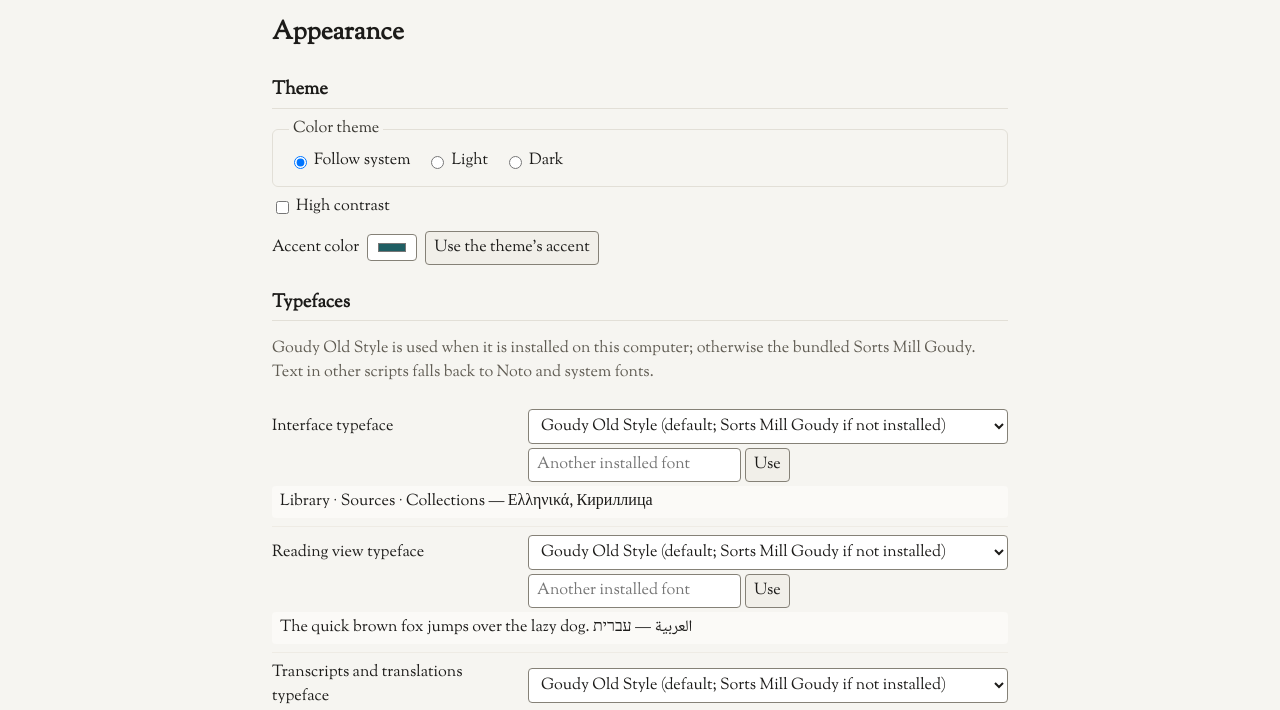
Test: the appearance settings cannot be read (Task 68) › confirmed: one reset, then the change that was refused is saved; the notice goes and focus lands on the heading
This screenshot has width=1280, height=710.
Step 1. Click the radio button labelled "Dark" → (516, 162), box [509,156,522,169]
(page scrolled)
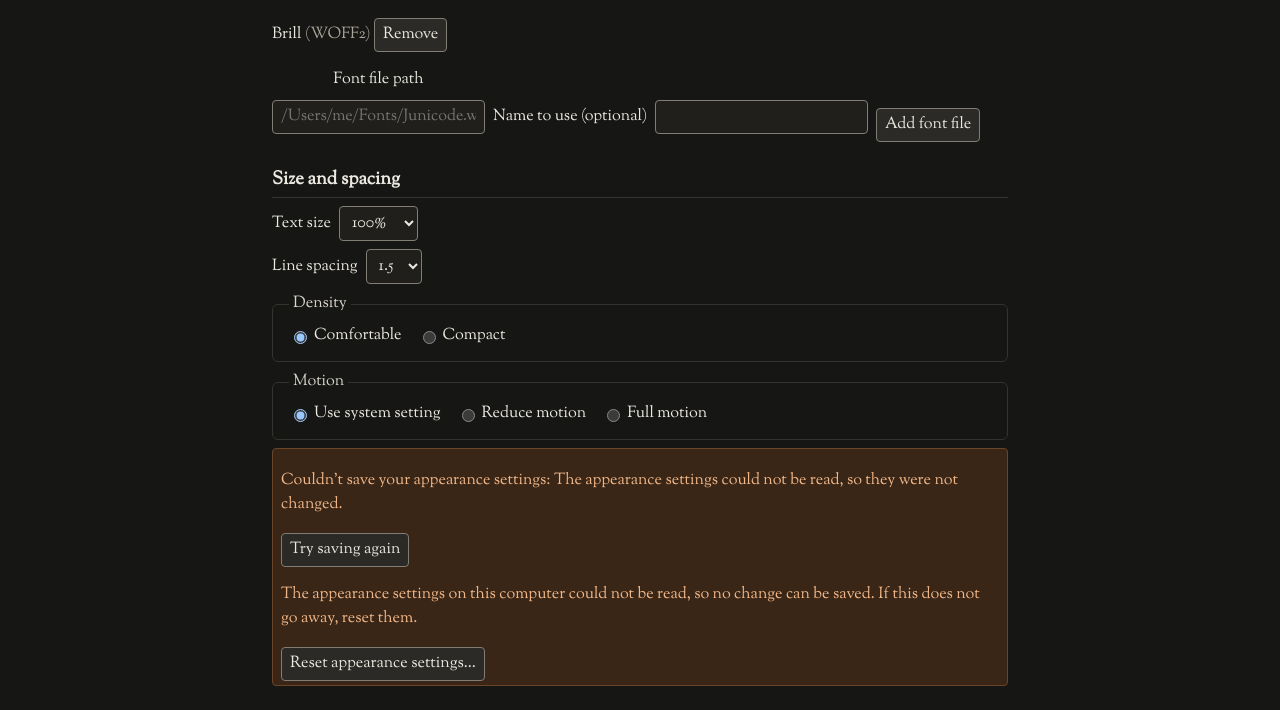
Step 2. Click the button "Reset appearance settings…" → (383, 664), box [281,647,485,681]
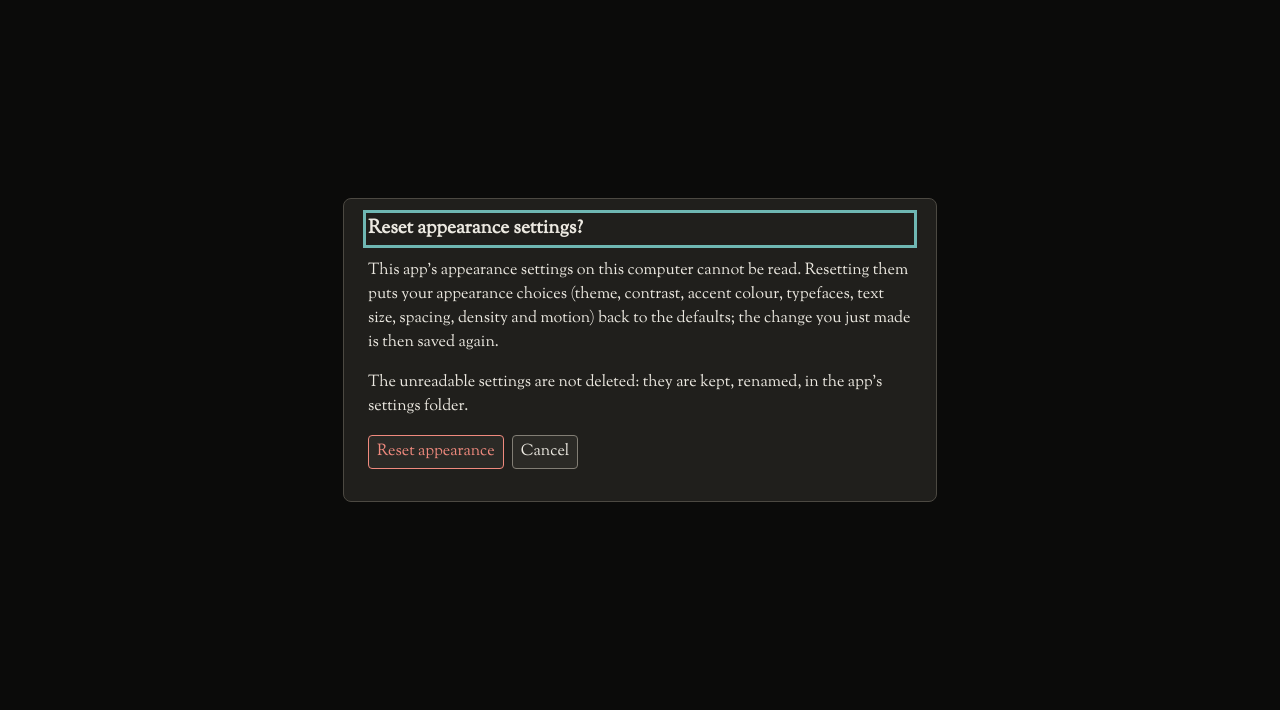
Step 3. Double-click the button "Reset appearance" → (436, 452), box [368,435,504,469]
(page scrolled)
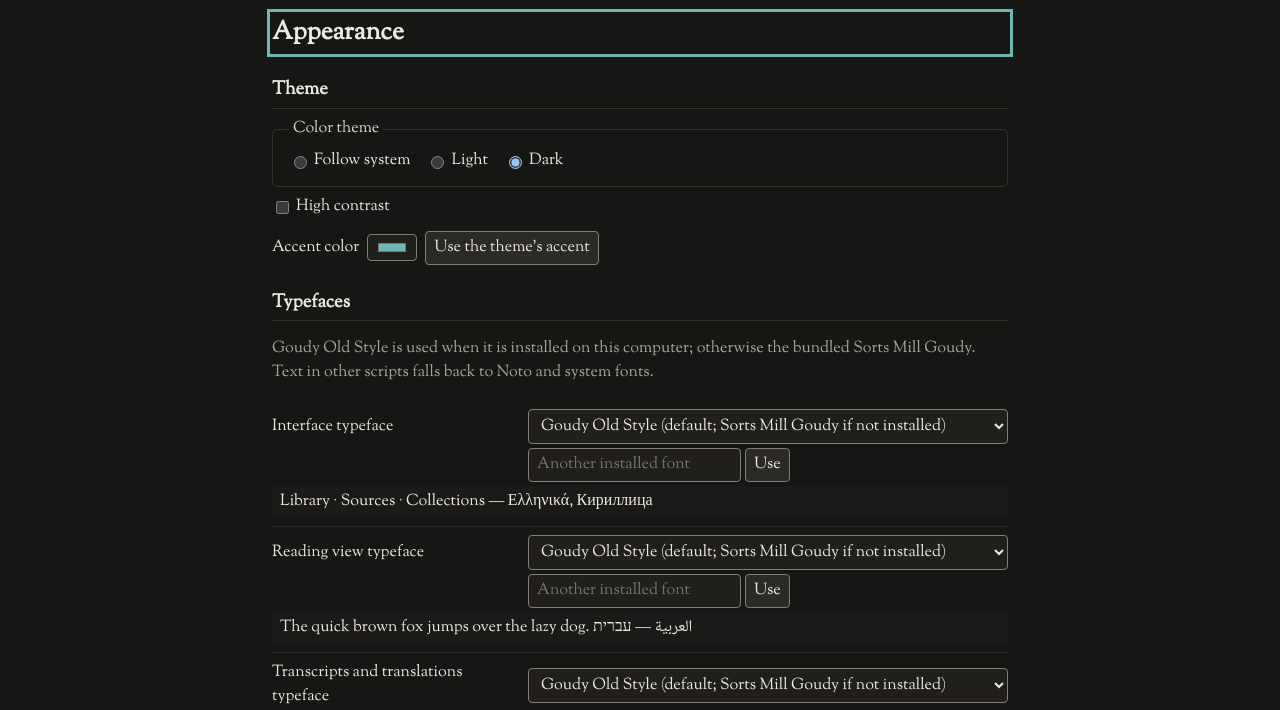
Result: the dialog is gone
Result: the button "Reset appearance settings…" is gone
Result: the button "Try saving again" is gone
